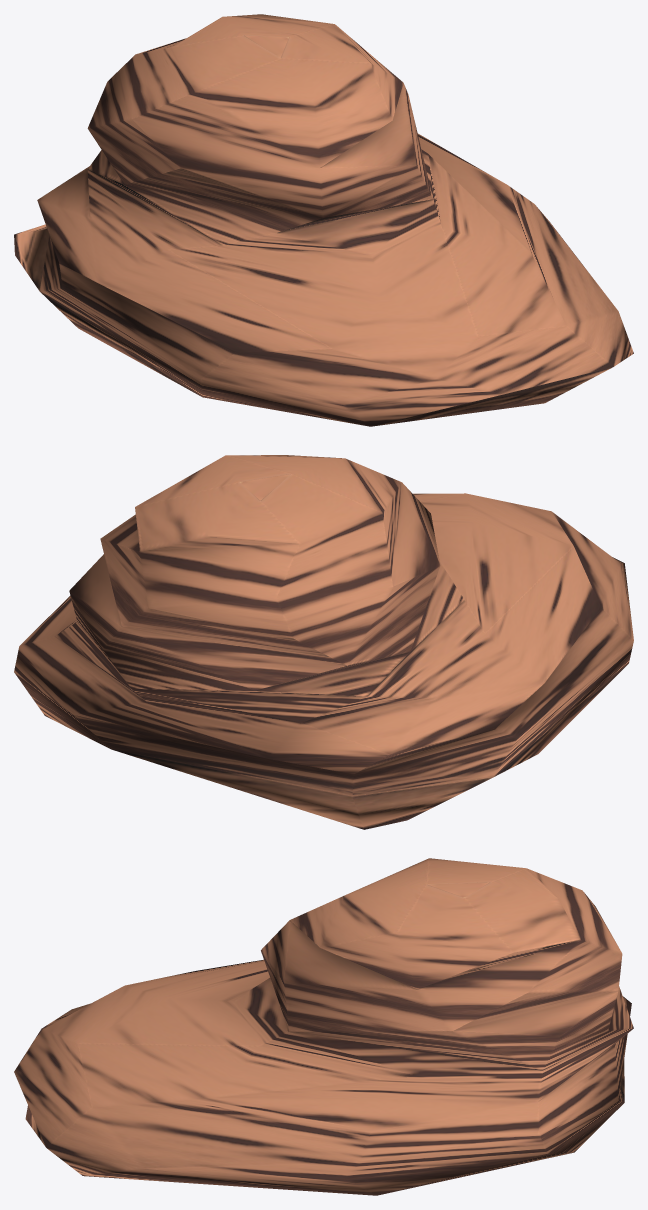
Rendered from Desert_rock_9.fbx.
The picture shows the model from 3 angles, top to bottom: view 1: azimuth 30°, elevation 25°; view 2: azimuth 150°, elevation 25°; view 3: azimuth 270°, elevation 25°; orthographic projection. The views are drawn at different scales.
Visible parts, largest first — view 1: Desert_rock_9; view 2: Desert_rock_9; view 3: Desert_rock_9.
Boxes of the visible parts, x1=… form: Desert_rock_9: x1=14, y1=14, x2=633, y2=426; Desert_rock_9: x1=14, y1=455, x2=633, y2=829; Desert_rock_9: x1=14, y1=858, x2=633, y2=1195.
Bounding box in the file's own units: 1.59 × 0.7156 × 1.94.
Materials: 1 (1 with a texture image).
